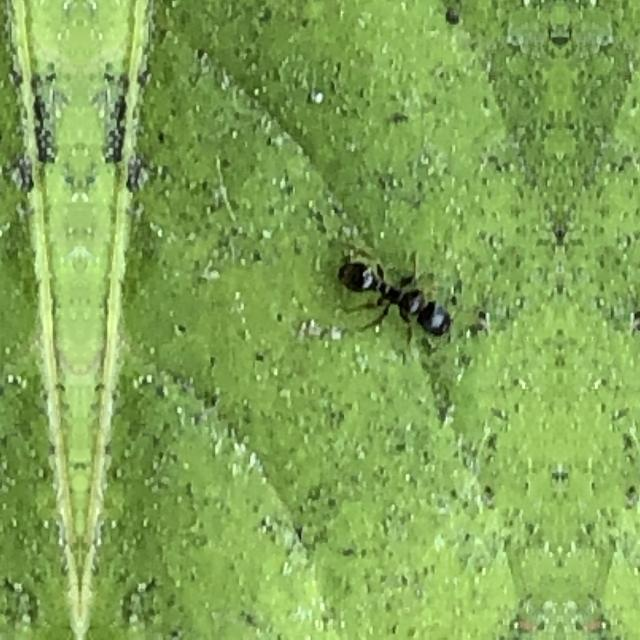Tetramorium: (359, 242, 461, 346)
